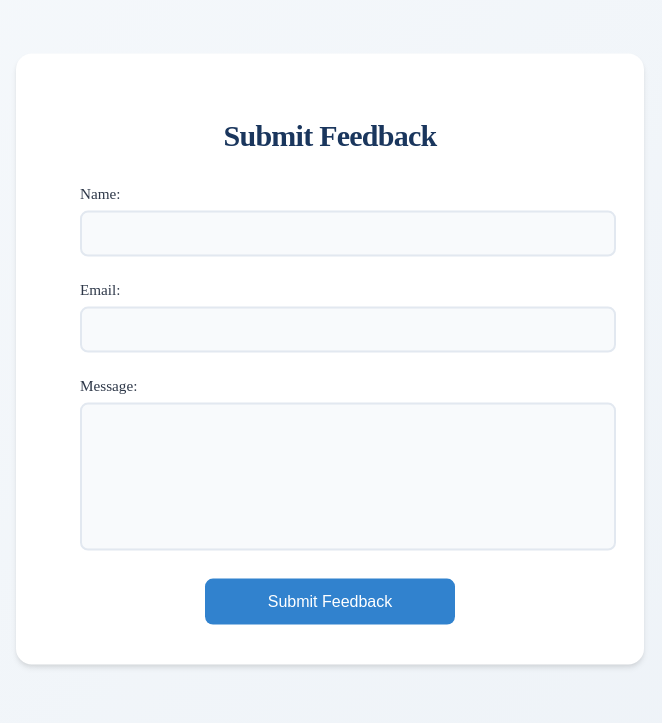
FeedbackForm › shows error if user is not authenticated
The image size is (662, 723).
In the field labelled "Name:": (348,233) [80,210,616,256], type "Jane"
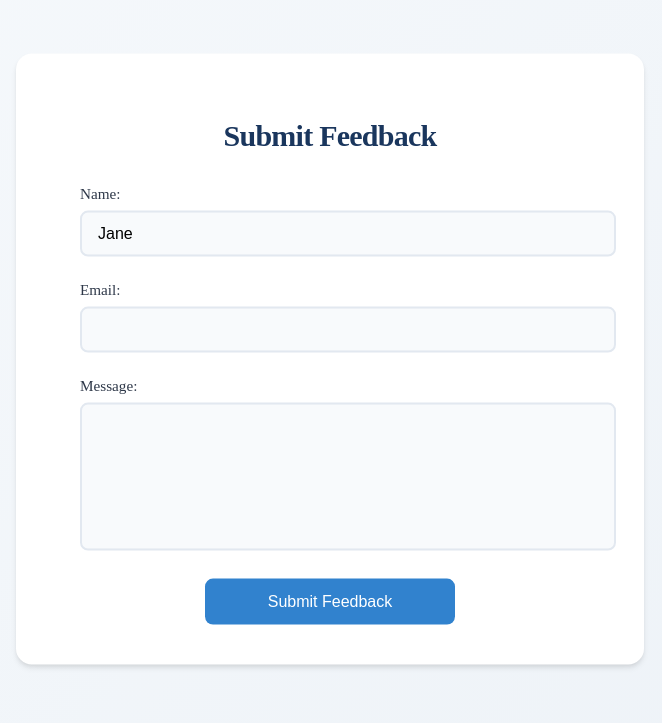
In the field labelled "Email:": (348,329) [80,306,616,352], type "jane@example.com"
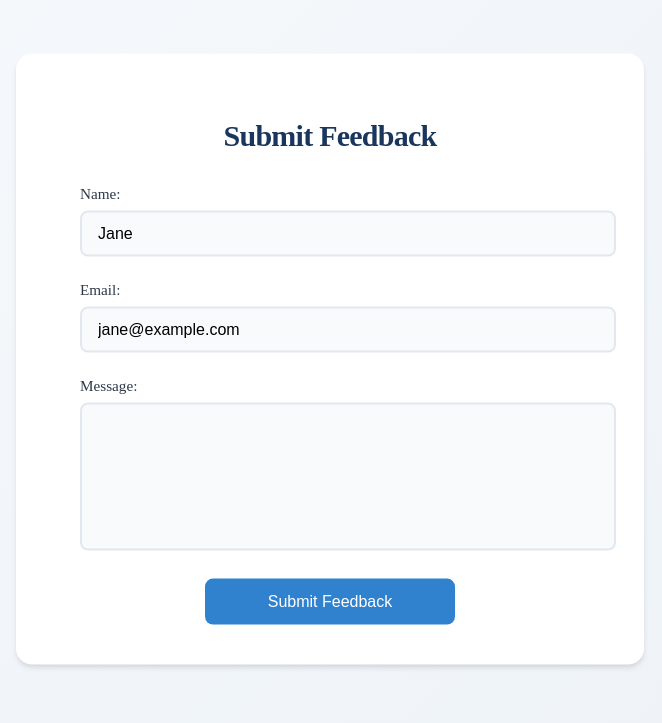
In the text box labelled "Message:": (348,476) [80,402,616,550], type "Feedback message"
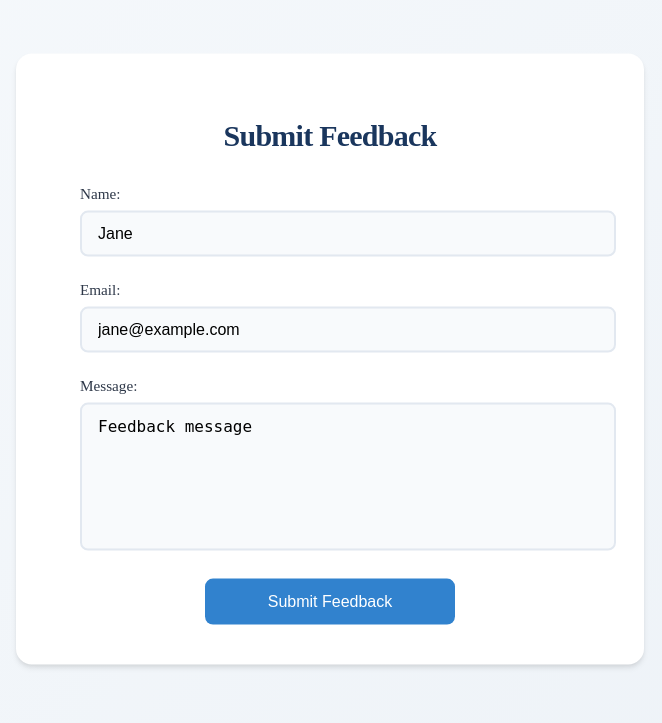
Click the button "Submit Feedback": (330,601) [205,578,455,624]
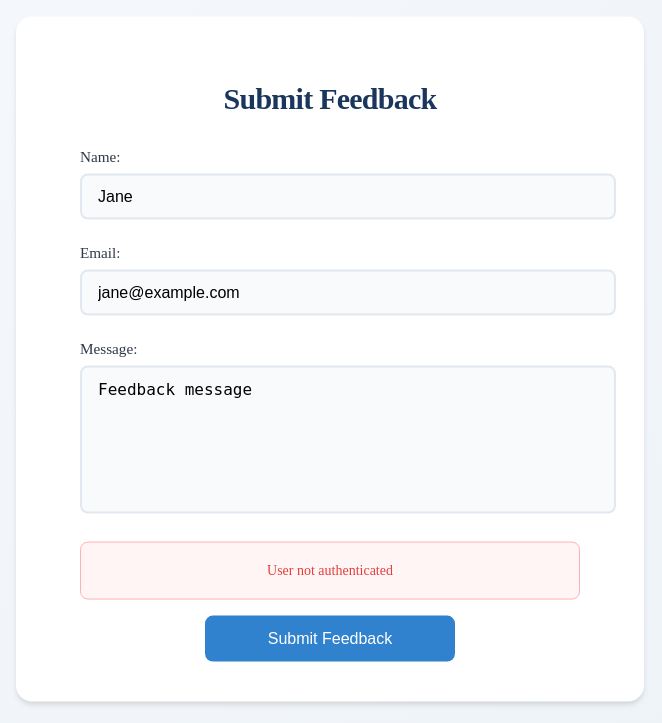
Expected: the text "User not authenticated" is shown, [80,541,580,599]
